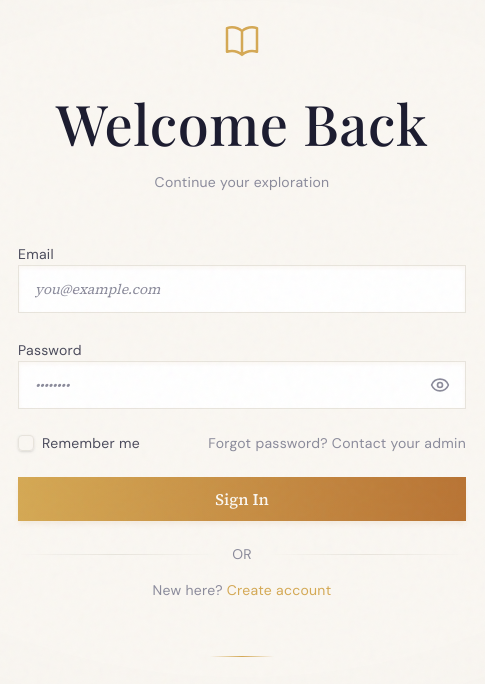
Test: LoginPage › Login/Signup Mode Toggle › should switch from signup back to login mode
What coordinates should you click on to do the following:
click the button "New here? Create account"
I would click on:
 (242, 590)
Its box is [18,572,466,608].
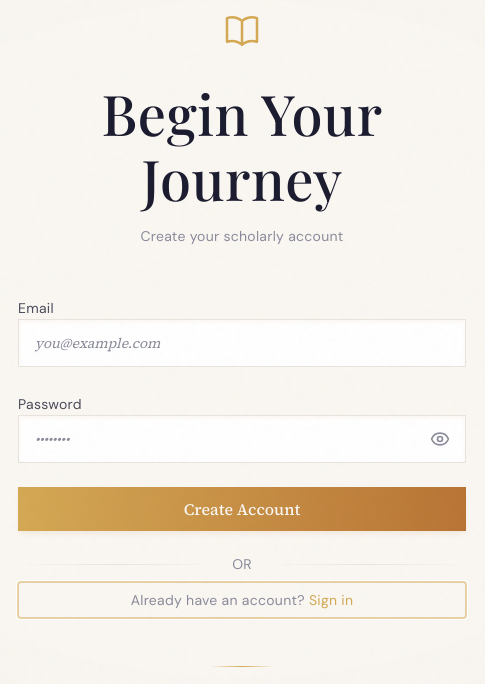
expect the button "Already have an account? Sign in" is shown: met
What coordinates should you click on to do the following:
click the button "Already have an account? Sign in"
I would click on:
 (242, 600)
Its box is [18,582,466,618].
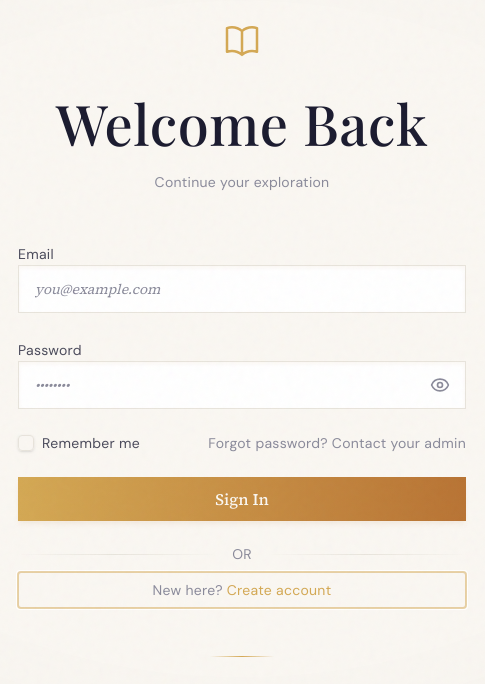
expect the button "Sign In" is shown: met, box [18,477,466,521]
